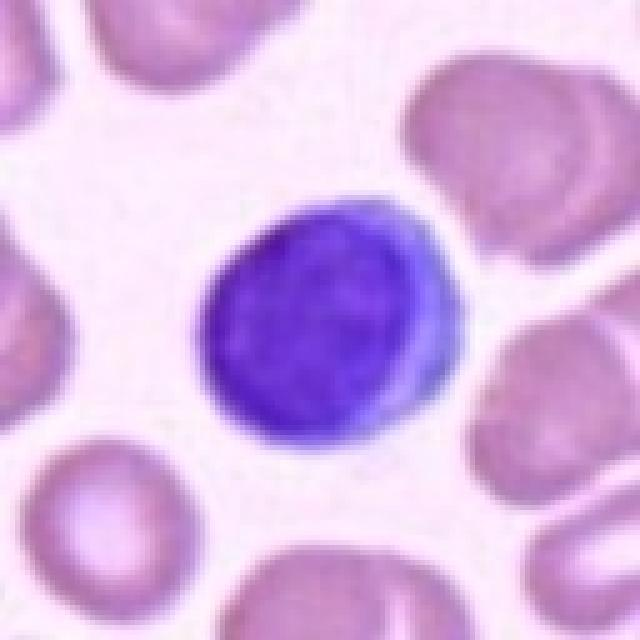lympho: (186, 186, 474, 455)
